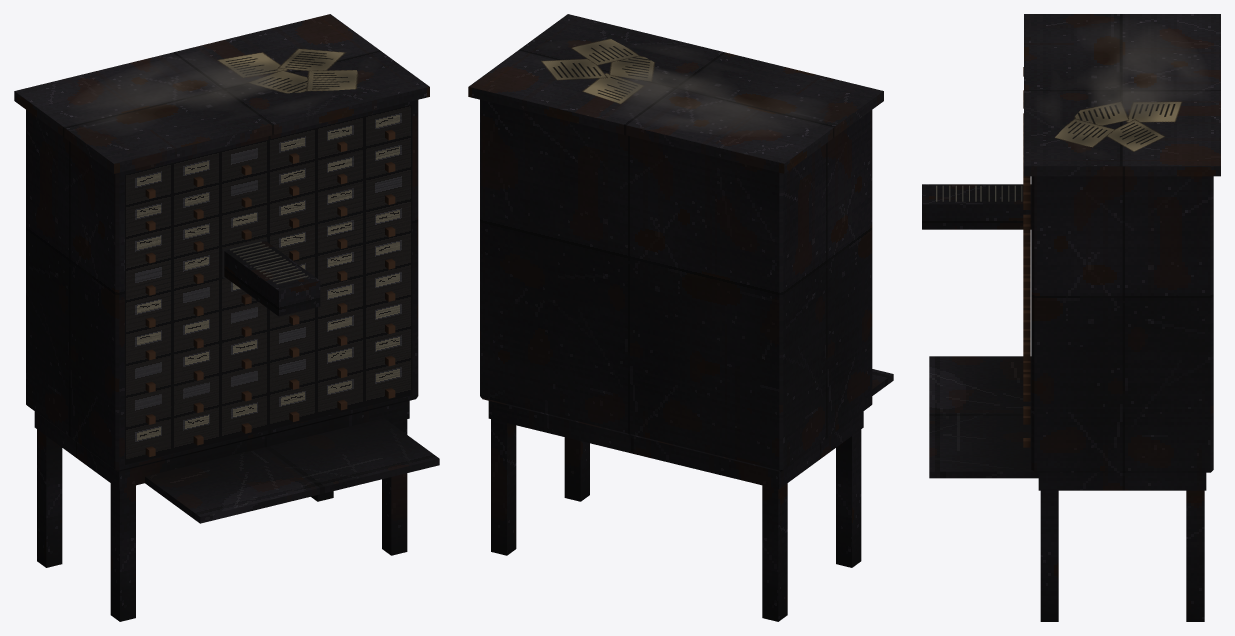
Rendered from card_catalog.glb.
3 views of the same model, side by side, from view 1: azimuth 30°, elevation 25°; view 2: azimuth 150°, elevation 25°; view 3: azimuth 270°, elevation 25° (orthographic).
Parts seen in each view (by area): view 1: body, panels, decals; view 2: body, decals; view 3: body, decals.
Part boxes in pixels (left/top/right/bottom): body: left=14, top=14, right=439, bottom=621; panels: left=125, top=104, right=412, bottom=465; decals: left=82, top=48, right=358, bottom=123; body: left=468, top=14, right=893, bottom=621; decals: left=541, top=38, right=809, bottom=131; body: left=922, top=14, right=1220, bottom=621; decals: left=1055, top=28, right=1200, bottom=151.
Size of what is drawn, in the model's own units: 0.99 by 1.4 by 0.82.
Materials: 9 (6 with a texture image).
